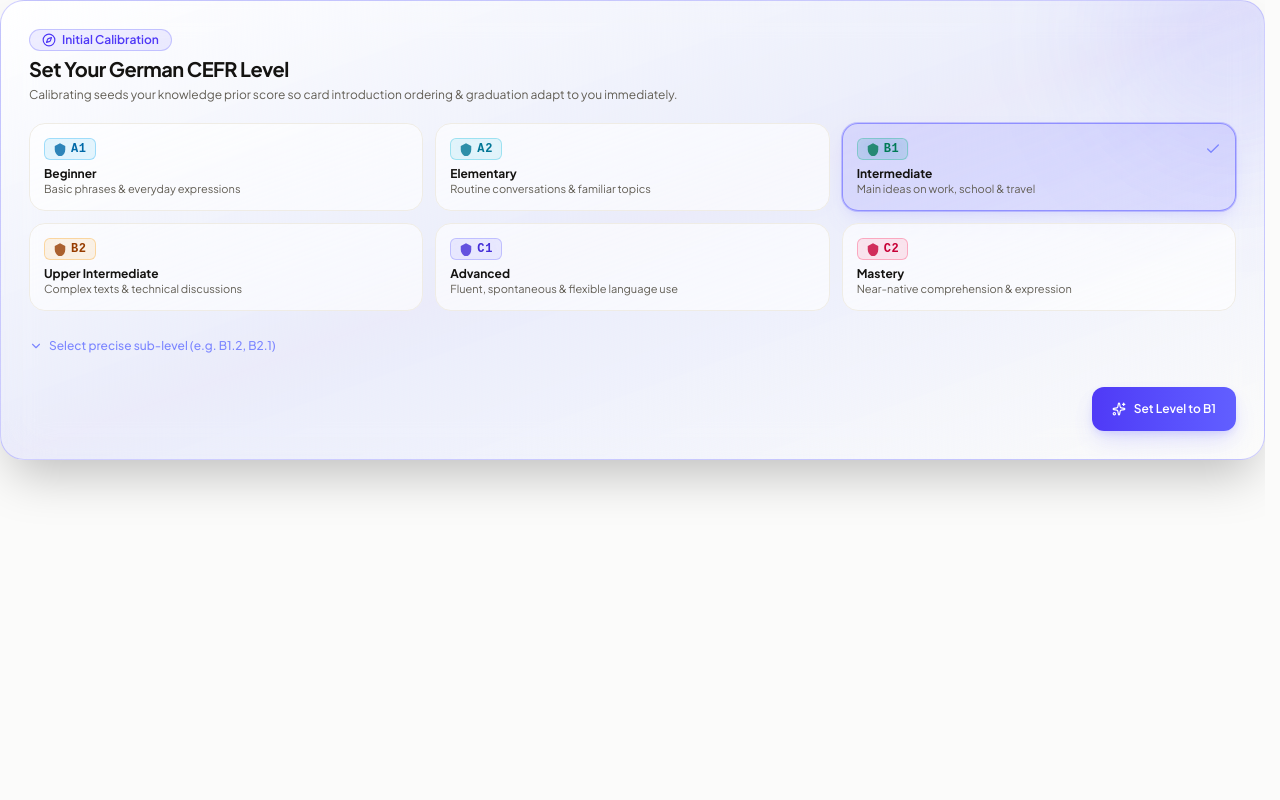
CEFRCalibrationCard › renders calibration choices and allows setting a level with toast feedback
This screenshot has width=1280, height=800.
Expected: the heading "Set Your German CEFR Level" is shown, [29,56,289,81]
Expected: the text "Beginner" is shown, [44,166,97,181]
Click the button "Set Level to B1" at point(1164, 408), box [1092,386,1236,430]
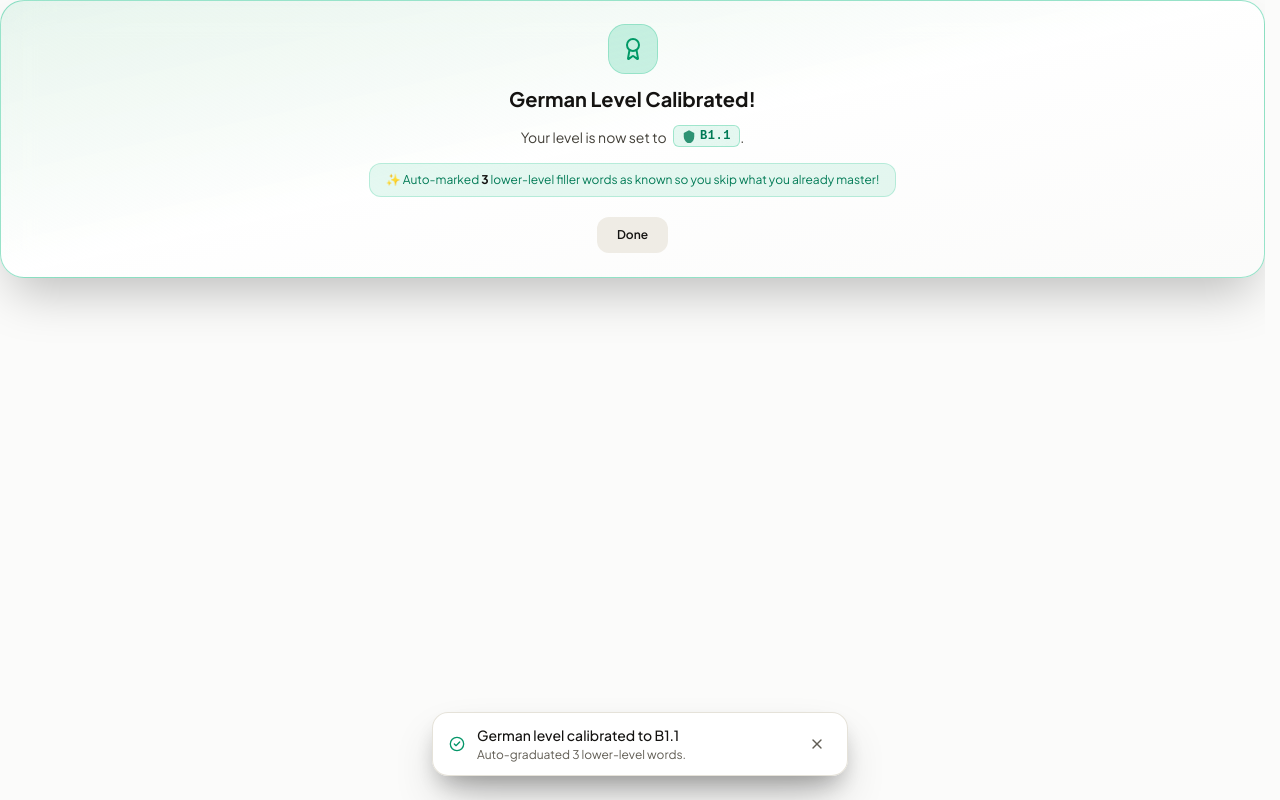
Now the heading "German Level Calibrated!" is shown, box [509,85,756,113]
Now the text "German level calibrated to B1.1" is shown, box [477,726,679,744]
